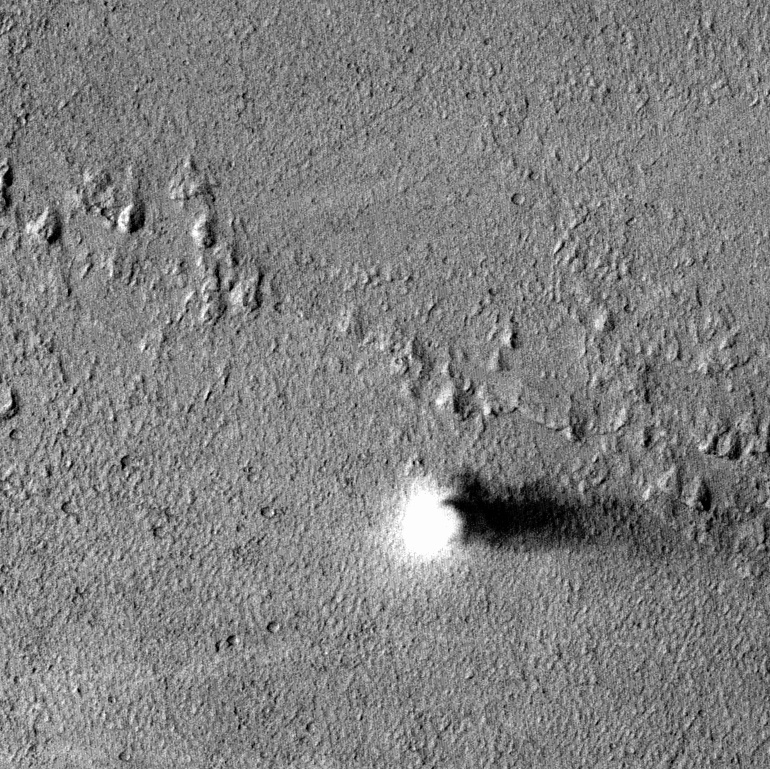dust_devil: (397, 464, 687, 563)
